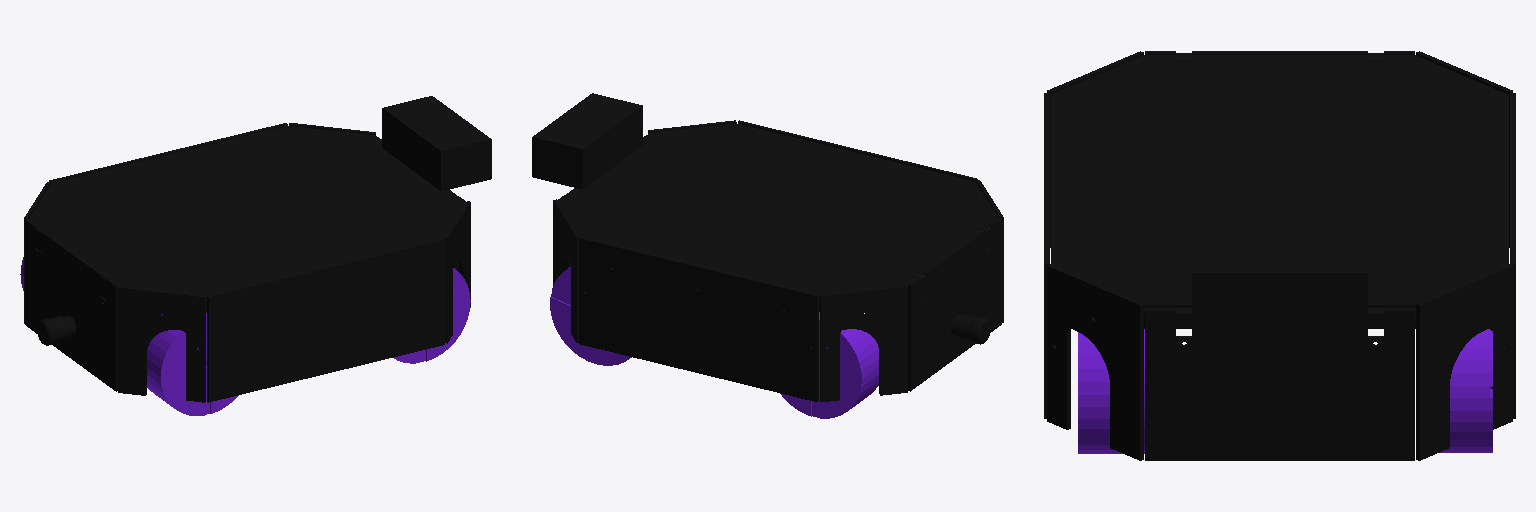
URDF robot description (AMR_URDF):
<?xml version="1.0" encoding="utf-8"?>
<!-- This URDF was automatically created by SolidWorks to URDF Exporter! Originally created by Stephen Brawner (brawner@gmail.com) 
     Commit Version: 1.6.0-4-g7f85cfe  Build Version: 1.6.7995.38578
     For more information, please see http://wiki.ros.org/sw_urdf_exporter -->
<robot
  name="AMR_URDF">
  <link
    name="base_link">
    <inertial>
      <origin
        xyz="0.034634 -2.0032E-05 0.14648"
        rpy="0 0 0" />
      <mass
        value="9" />
      <inertia
        ixx="0.02132"
        ixy="-3.1818E-11"
        ixz="4.0703E-07"
        iyy="0.063507"
        iyz="2.1317E-07"
        izz="0.07706" />
    </inertial>
    <visual>
      <origin
        xyz="0 0 0"
        rpy="0 0 0" />
      <geometry>
        <mesh
          filename="package://AMR_URDF/meshes/base_link.STL" />
      </geometry>
      <material
        name="">
        <color
          rgba="0.1 0.1 0.1 1" />
      </material>
    </visual>
    <collision>
      <origin
        xyz="0 0 0"
        rpy="0 0 0" />
      <geometry>
        <mesh
          filename="package://AMR_URDF/meshes/base_link.STL" />
      </geometry>
    </collision>
  </link>
  <link
    name="front_left_wheel_link">
    <inertial>
      <origin
        xyz="-9.7145E-16 0.0099224 -2.8241E-15"
        rpy="0 0 0" />
      <mass
        value="1.5" />
      <inertia
        ixx="0.0019884"
        ixy="-1.308E-19"
        ixz="1.0889E-06"
        iyy="0.0032378"
        iyz="1.8176E-19"
        izz="0.001983" />
    </inertial>
    <visual>
      <origin
        xyz="0 0 0"
        rpy="0 0 0" />
      <geometry>
        <mesh
          filename="package://AMR_URDF/meshes/front_left_wheel_link.STL" />
      </geometry>
      <material
        name="">
        <color
          rgba="0.4784 0.1765 0.8471 1" />
      </material>
    </visual>
    <collision>
      <origin
        xyz="0 0 0"
        rpy="0 0 0" />
      <geometry>
        <mesh
          filename="package://AMR_URDF/meshes/front_left_wheel_link.STL" />
      </geometry>
    </collision>
  </link>
  <joint
    name="front_left_wheel_joint"
    type="continuous">
    <origin
      xyz="0.1734 0.15913 0.07574"
      rpy="0 0 0" />
    <parent
      link="base_link" />
    <child
      link="front_left_wheel_link" />
    <axis
      xyz="0 1 0" />
  </joint>
  <link
    name="rear_left_wheel_link">
    <inertial>
      <origin
        xyz="-2.0817E-15 0.0099224 1.3392E-15"
        rpy="0 0 0" />
      <mass
        value="1.5" />
      <inertia
        ixx="0.0019828"
        ixy="1.303E-17"
        ixz="4.483E-20"
        iyy="0.0032378"
        iyz="2.6189E-19"
        izz="0.0019886" />
    </inertial>
    <visual>
      <origin
        xyz="0 0 0"
        rpy="0 0 0" />
      <geometry>
        <mesh
          filename="package://AMR_URDF/meshes/rear_left_wheel_link.STL" />
      </geometry>
      <material
        name="">
        <color
          rgba="0.4784 0.1765 0.8471 1" />
      </material>
    </visual>
    <collision>
      <origin
        xyz="0 0 0"
        rpy="0 0 0" />
      <geometry>
        <mesh
          filename="package://AMR_URDF/meshes/rear_left_wheel_link.STL" />
      </geometry>
    </collision>
  </link>
  <joint
    name="rear_left_wheel_joint"
    type="continuous">
    <origin
      xyz="-0.1734 0.15913 0.07574"
      rpy="0 0 0" />
    <parent
      link="base_link" />
    <child
      link="rear_left_wheel_link" />
    <axis
      xyz="0 1 0" />
  </joint>
  <link
    name="rear_right_wheel_link">
    <inertial>
      <origin
        xyz="-5.6621E-15 7.7631E-05 5.0446E-15"
        rpy="0 0 0" />
      <mass
        value="1.5" />
      <inertia
        ixx="0.0019828"
        ixy="-4.3981E-18"
        ixz="-9.8417E-21"
        iyy="0.0032378"
        iyz="1.3736E-20"
        izz="0.0019886" />
    </inertial>
    <visual>
      <origin
        xyz="0 0 0"
        rpy="0 0 0" />
      <geometry>
        <mesh
          filename="package://AMR_URDF/meshes/rear_right_wheel_link.STL" />
      </geometry>
      <material
        name="">
        <color
          rgba="0.4784 0.1765 0.8471 1" />
      </material>
    </visual>
    <collision>
      <origin
        xyz="0 0 0"
        rpy="0 0 0" />
      <geometry>
        <mesh
          filename="package://AMR_URDF/meshes/rear_right_wheel_link.STL" />
      </geometry>
    </collision>
  </link>
  <joint
    name="rear_right_wheel_joint"
    type="continuous">
    <origin
      xyz="-0.1734 -0.15913 0.07574"
      rpy="0 0 0" />
    <parent
      link="base_link" />
    <child
      link="rear_right_wheel_link" />
    <axis
      xyz="0 1 0" />
  </joint>
  <link
    name="front_right_wheel_link">
    <inertial>
      <origin
        xyz="3.0809E-15 7.7631E-05 -3.747E-15"
        rpy="0 0 0" />
      <mass
        value="1.5" />
      <inertia
        ixx="0.0019828"
        ixy="-4.4099E-18"
        ixz="-9.8312E-21"
        iyy="0.0032378"
        iyz="1.3002E-20"
        izz="0.0019886" />
    </inertial>
    <visual>
      <origin
        xyz="0 0 0"
        rpy="0 0 0" />
      <geometry>
        <mesh
          filename="package://AMR_URDF/meshes/front_right_wheel_link.STL" />
      </geometry>
      <material
        name="">
        <color
          rgba="0.4784 0.1765 0.8471 1" />
      </material>
    </visual>
    <collision>
      <origin
        xyz="0 0 0"
        rpy="0 0 0" />
      <geometry>
        <mesh
          filename="package://AMR_URDF/meshes/front_right_wheel_link.STL" />
      </geometry>
    </collision>
  </link>
  <joint
    name="front_right_wheel_joint"
    type="continuous">
    <origin
      xyz="0.1734 -0.15913 0.07574"
      rpy="0 0 0" />
    <parent
      link="base_link" />
    <child
      link="front_right_wheel_link" />
    <axis
      xyz="0 1 0" />
  </joint>
  <link
    name="IMU_link">
    <inertial>
      <origin
        xyz="0 0 0"
        rpy="0 0 0" />
      <mass
        value="0.02" />
      <inertia
        ixx="0"
        ixy="0"
        ixz="0"
        iyy="0"
        iyz="0"
        izz="0" />
    </inertial>
    <visual>
      <origin
        xyz="0 0 0"
        rpy="0 0 0" />
      <geometry>
        <mesh
          filename="package://AMR_URDF/meshes/IMU_link.STL" />
      </geometry>
      <material
        name="">
        <color
          rgba="1 1 1 1" />
      </material>
    </visual>
    <collision>
      <origin
        xyz="0 0 0"
        rpy="0 0 0" />
      <geometry>
        <mesh
          filename="package://AMR_URDF/meshes/IMU_link.STL" />
      </geometry>
    </collision>
  </link>
  <joint
    name="IMU_joint"
    type="fixed">
    <origin
      xyz="0 0 0.18085999714094"
      rpy="0 0 0" />
    <parent
      link="base_link" />
    <child
      link="IMU_link" />
    <axis
      xyz="0 0 0" />
  </joint>
</robot>

--- Facts derived from the render (not from the file) ---
The picture shows the robot from 3 angles, left to right: view 1: azimuth 30°, elevation 25°; view 2: azimuth 150°, elevation 25°; view 3: azimuth 270°, elevation 25°; orthographic projection.
Model AMR_URDF with 6 links and 5 joints (4 continuous, 1 fixed), rooted at base_link, posed all joints at 0.
Visible links, largest first — view 1: base_link, rear_right_wheel_link, front_right_wheel_link; view 2: base_link, rear_left_wheel_link, front_left_wheel_link; view 3: base_link, front_left_wheel_link, front_right_wheel_link.
Link boxes in pixels (left/top/right/bottom): base_link: left=24, top=96, right=491, bottom=402; rear_right_wheel_link: left=147, top=313, right=238, bottom=415; front_right_wheel_link: left=394, top=268, right=470, bottom=363; base_link: left=532, top=93, right=1003, bottom=402; rear_left_wheel_link: left=780, top=312, right=878, bottom=418; front_left_wheel_link: left=550, top=267, right=631, bottom=365; base_link: left=1044, top=51, right=1515, bottom=460; front_left_wheel_link: left=1440, top=329, right=1492, bottom=452; front_right_wheel_link: left=1078, top=329, right=1144, bottom=453.
Bounding box of the posed robot: 0.6753 × 0.4442 × 0.2598 m (x, y, z).
Meshes: 6 distinct files referenced, 6 mesh visuals loaded (6 binary STL).
